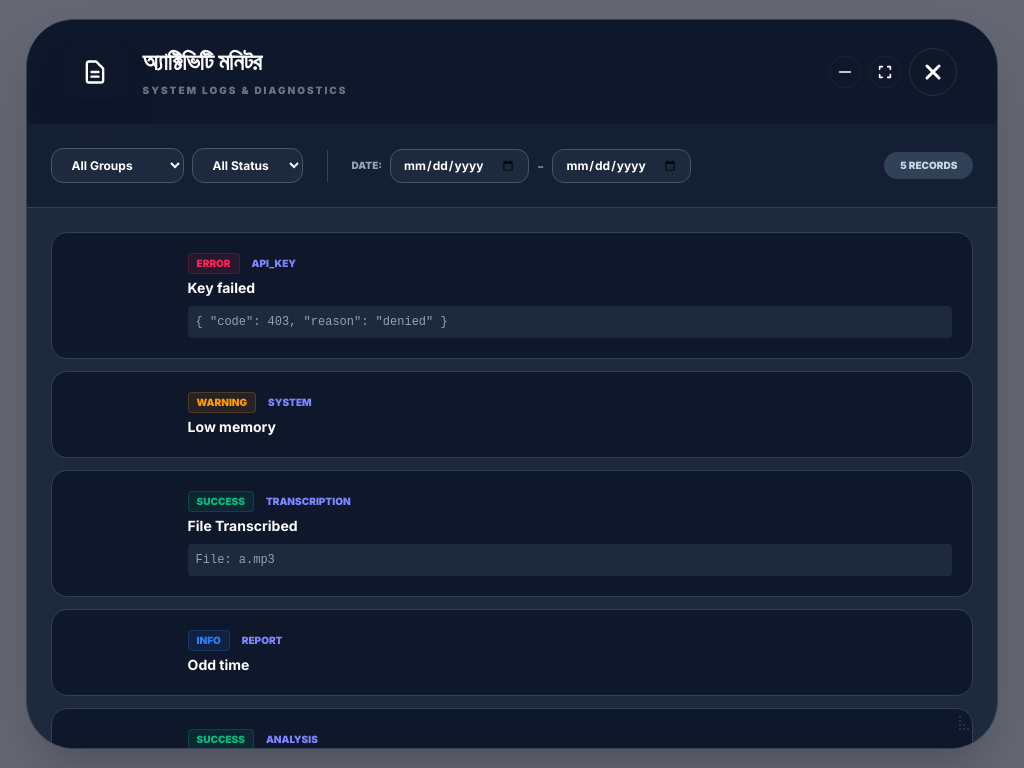
Test: ActivityLogsModal behavior › filters by category, status and date range
Select "API Key" in the 1st dropdown at (117, 166), box x1=51 y1=148 x2=184 y2=183
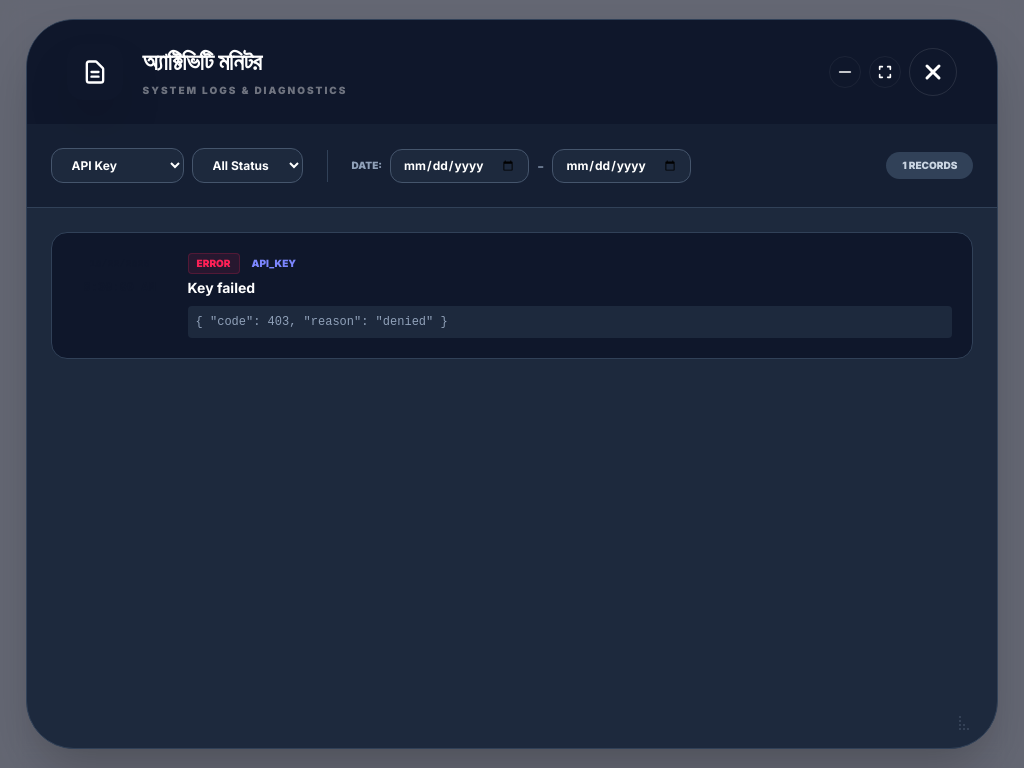
Select "All Groups" in the 1st dropdown at (117, 166), box x1=51 y1=148 x2=184 y2=183
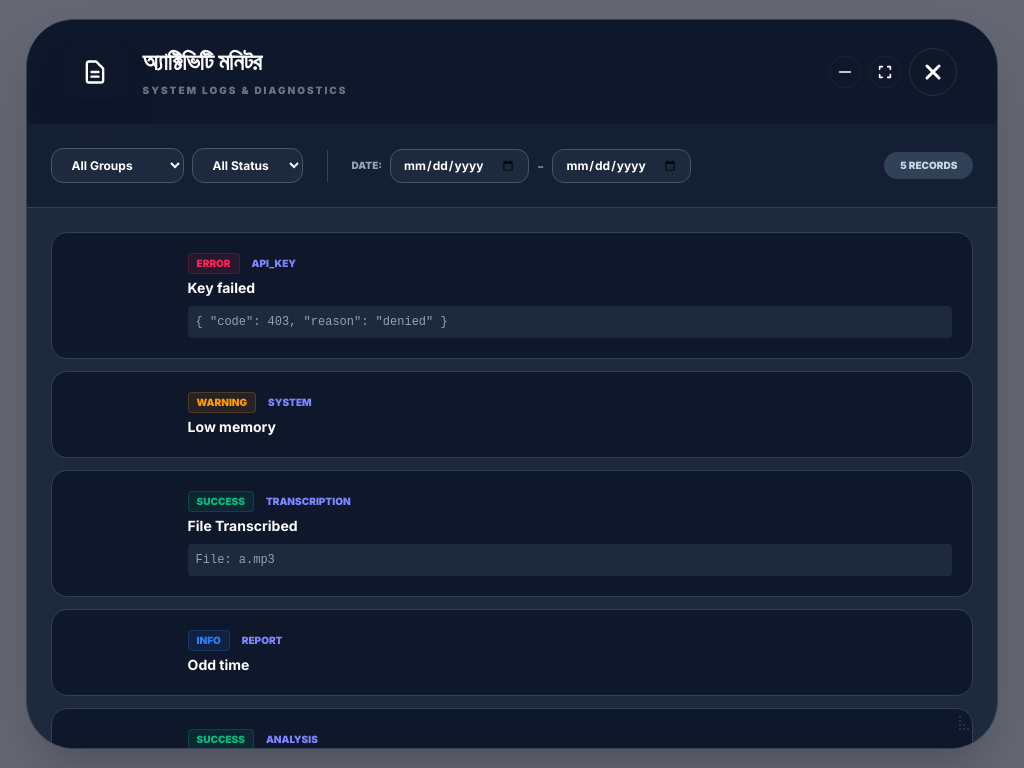
Select "Success" in the 2nd dropdown at (247, 166), box x1=192 y1=148 x2=303 y2=183
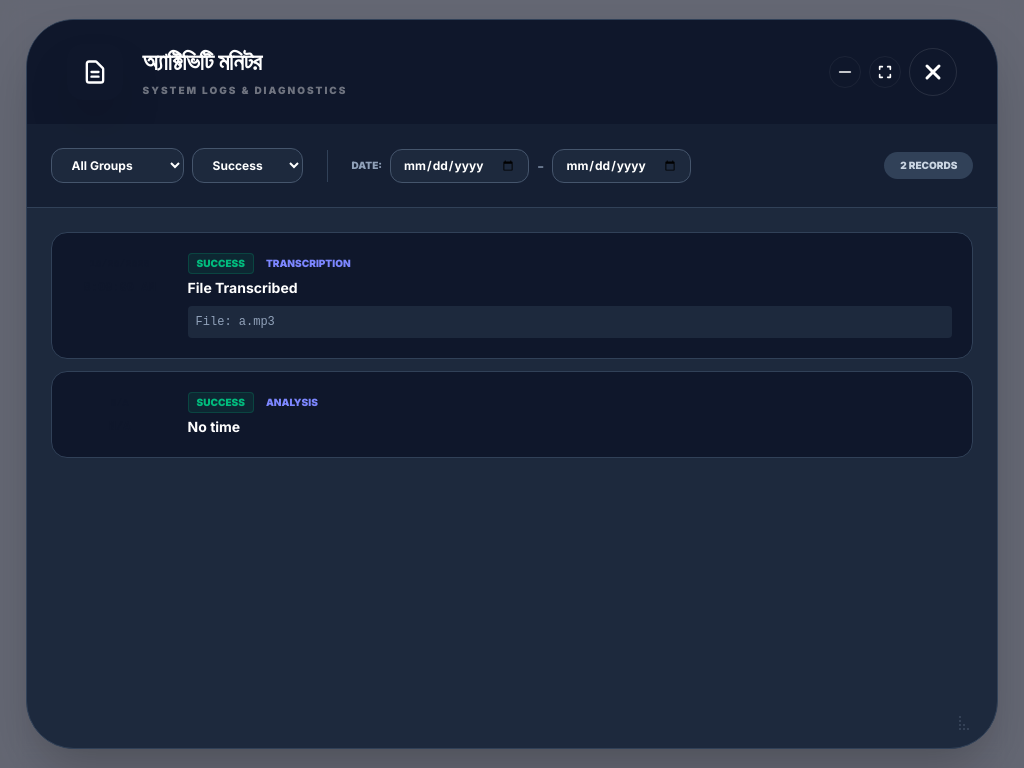
Select "All Status" in the 2nd dropdown at (247, 166), box x1=192 y1=148 x2=303 y2=183
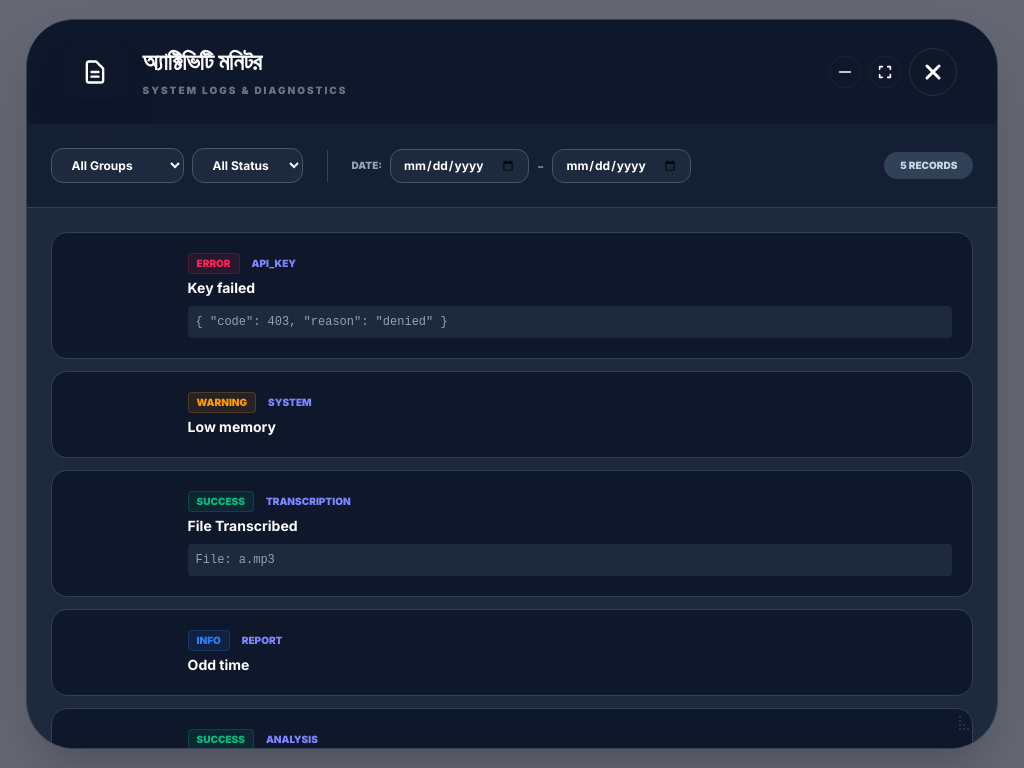
Type "2026-10-21" into the 1st date field at (460, 166), box x1=390 y1=149 x2=529 y2=183
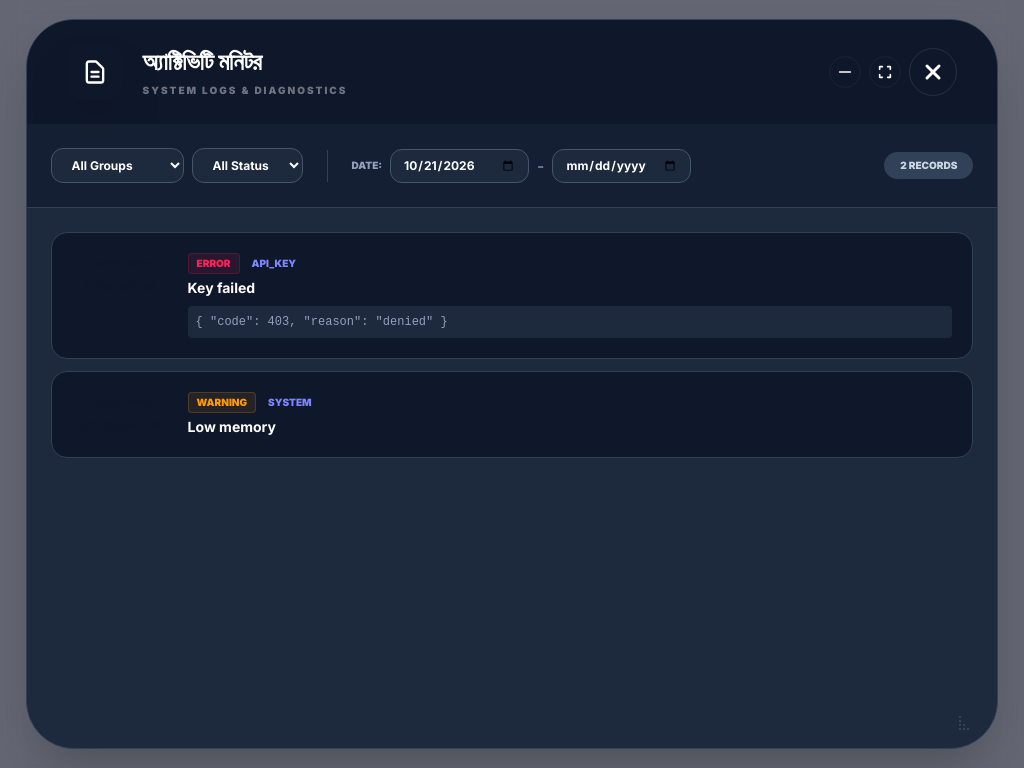
Type "2026-10-21" into the 2nd date field at (622, 166), box x1=552 y1=149 x2=692 y2=183
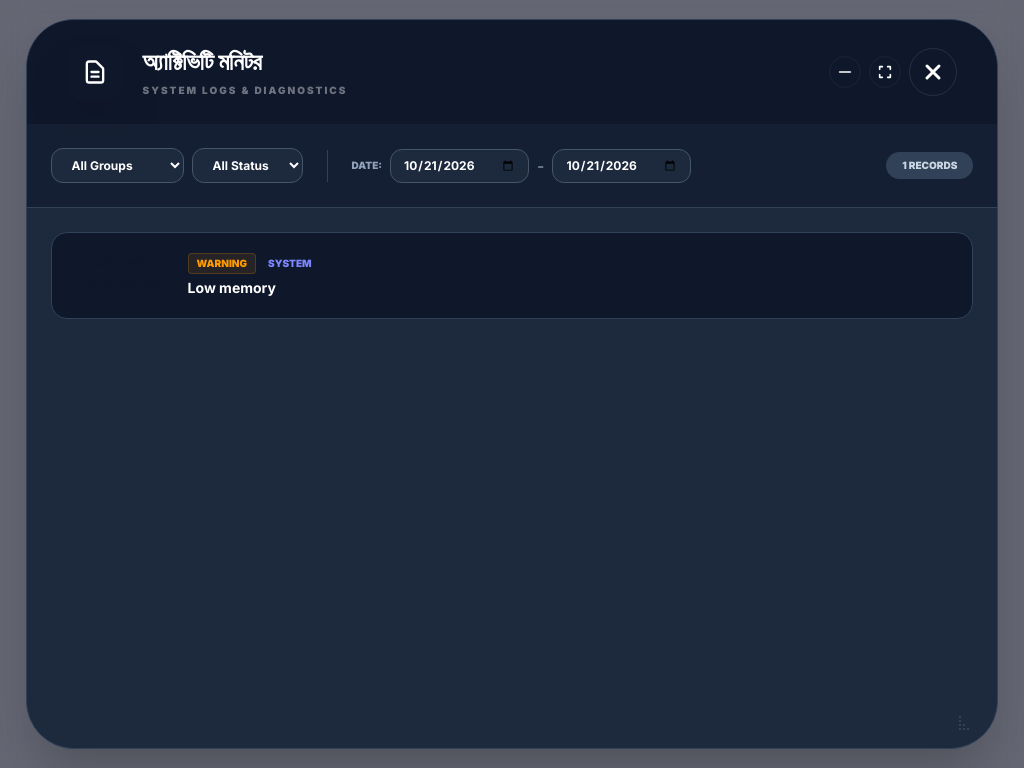
Check: the text "1 Records" is shown, box x1=886 y1=152 x2=973 y2=179
